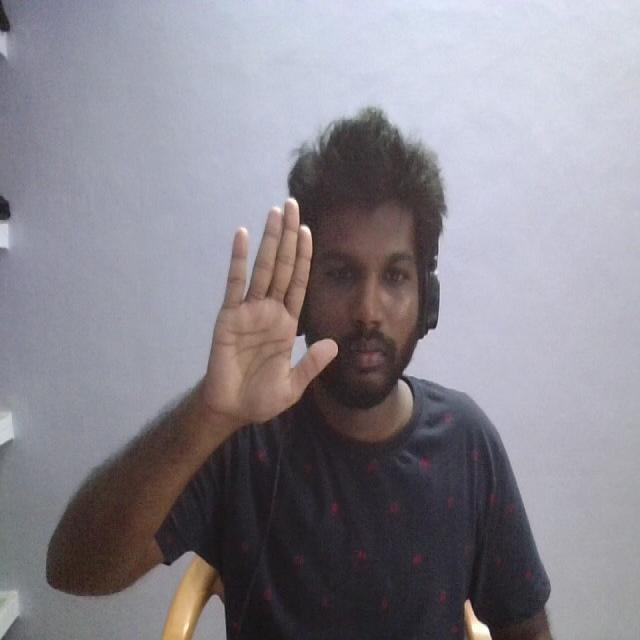hello: (194, 171, 344, 463)
